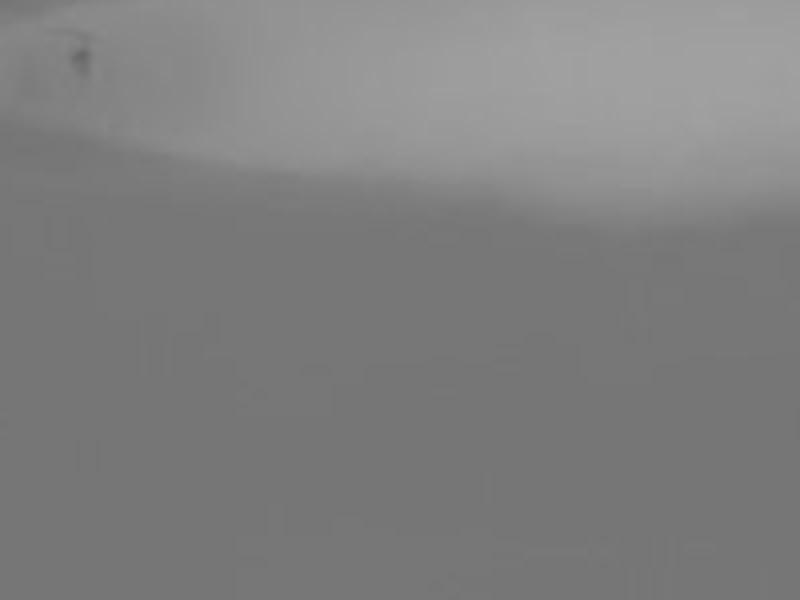defect: (69, 45, 90, 66)
